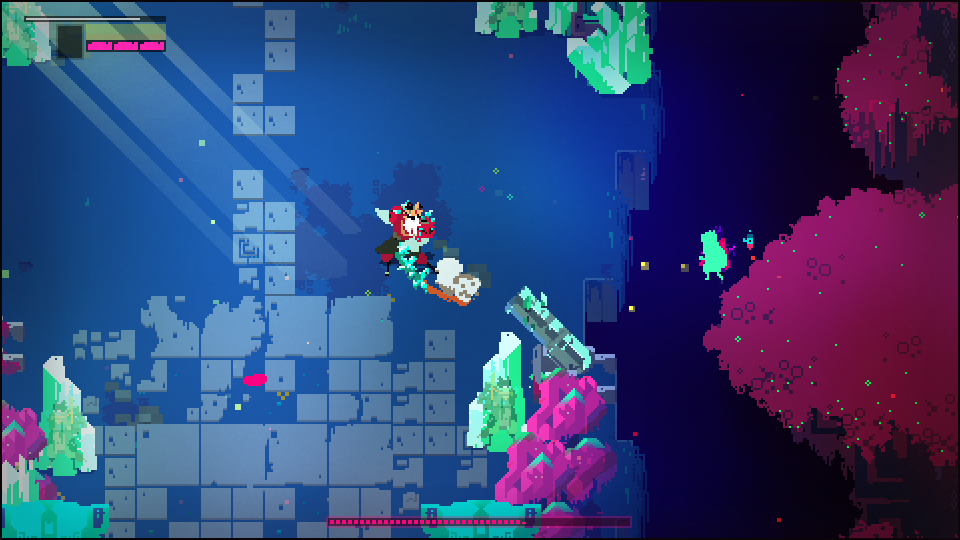hanged_man: (373, 201, 453, 303)
player: (698, 229, 727, 282)
